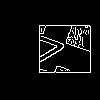Z: (25, 25, 70, 79)
